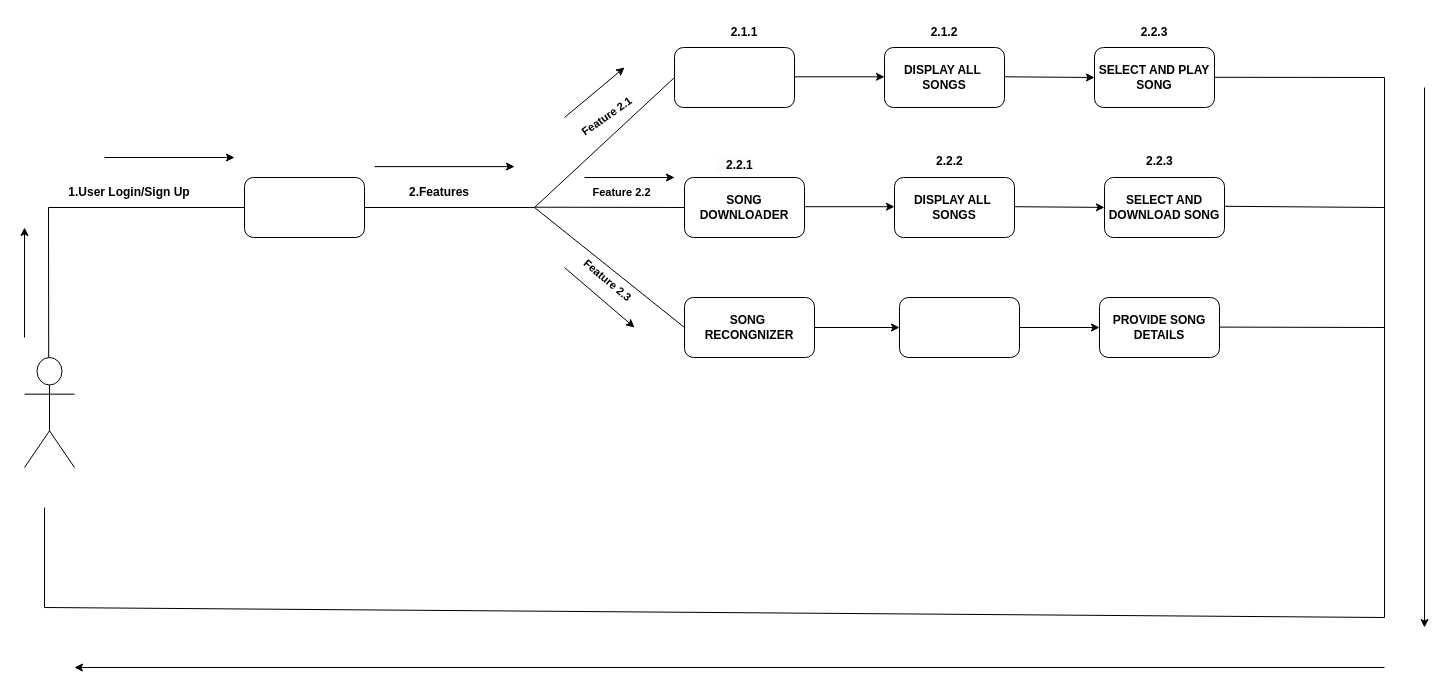
Image size: 1450x693. Some labels were removed from this diagram. Each missing label, with the centre of its shape:
"Actor" goes at pixel 49 412.
"LISTEN FOR A SONG" goes at pixel 959 327.
"LOGIN" goes at pixel 304 207.
"MUSIC PLAYER" goes at pixel 734 77.
